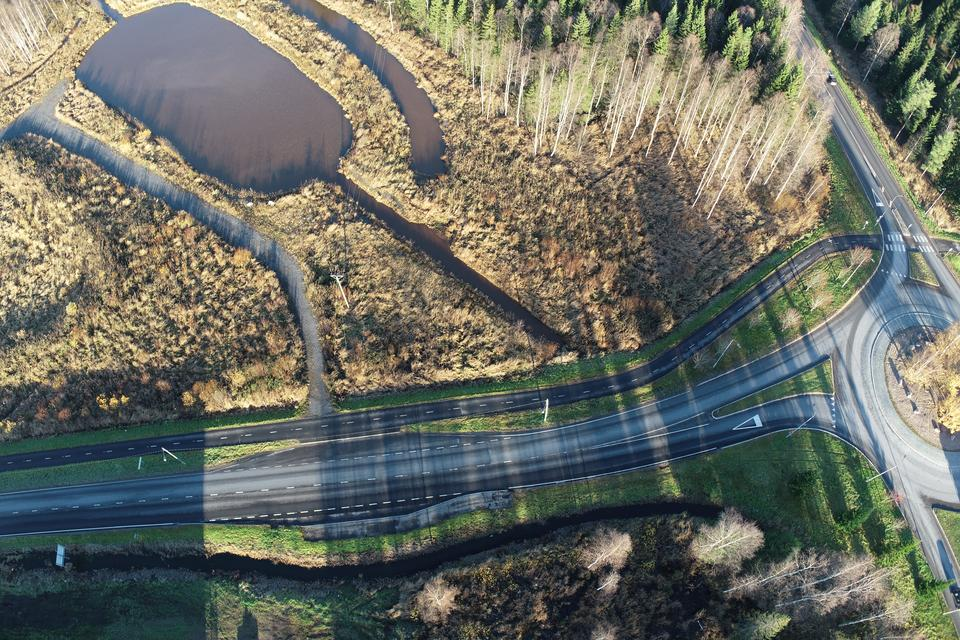intersection: (284, 352, 382, 556), (856, 219, 960, 258)
roundabout: (722, 263, 960, 567)
